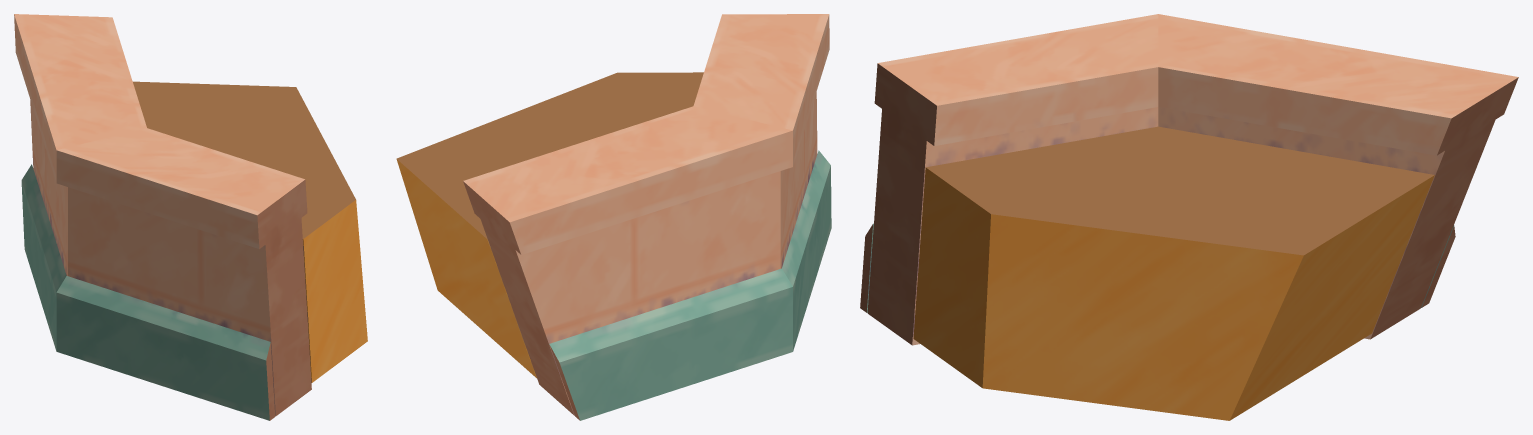
The model's file is vat_saffron_s06.fbx.
The picture shows the model from 3 angles, left to right: view 1: azimuth 30°, elevation 25°; view 2: azimuth 150°, elevation 25°; view 3: azimuth 270°, elevation 25°; orthographic projection. The views are drawn at different scales.
Parts seen in each view (by area): view 1: vat_saffron_s06; view 2: vat_saffron_s06; view 3: vat_saffron_s06.
Boxes of the visible parts, x1,y1,x2,y2 form: vat_saffron_s06: [14, 14, 367, 420]; vat_saffron_s06: [396, 14, 831, 420]; vat_saffron_s06: [860, 14, 1518, 420].
Size of the model in its own units: 2.65 by 1.7 by 4.19.
